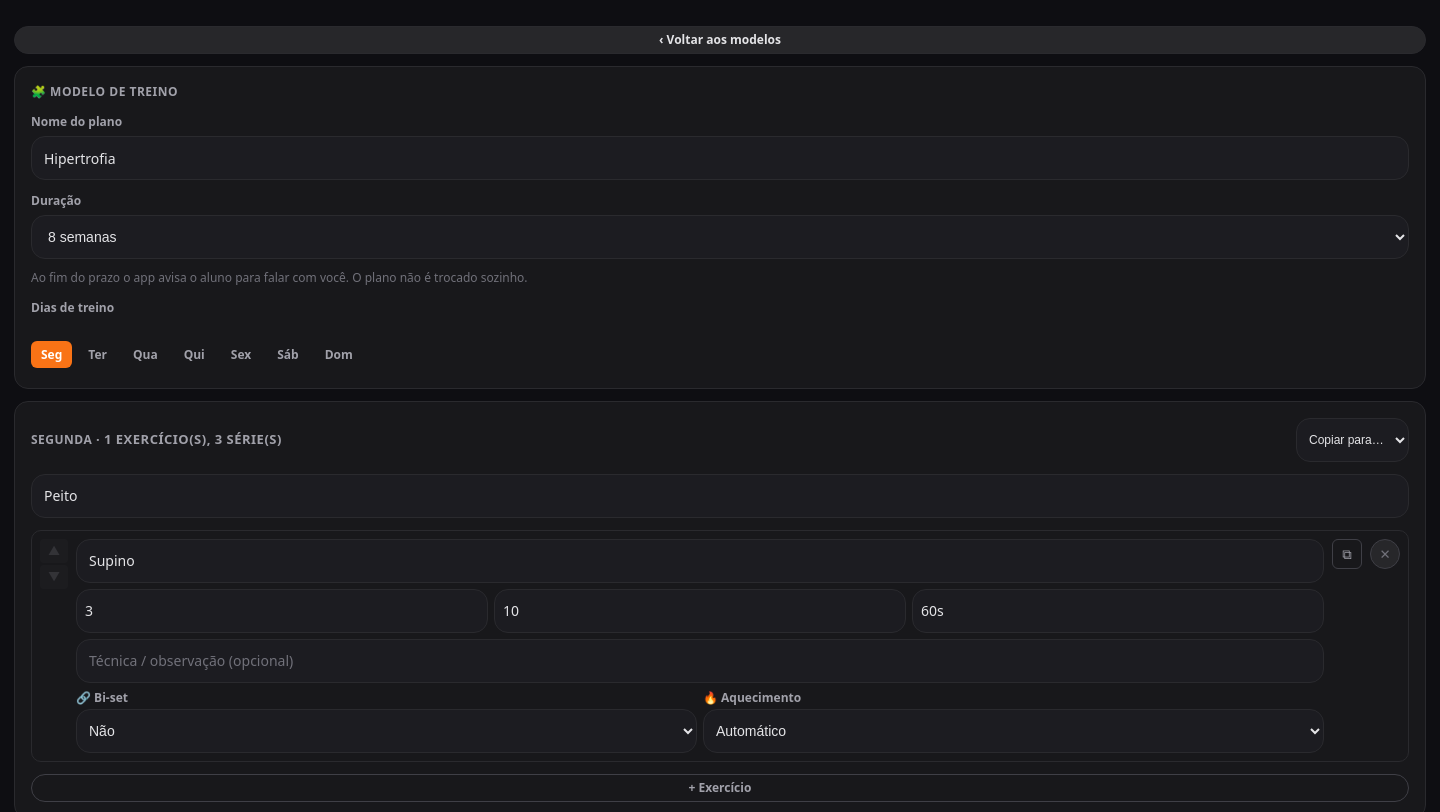
Scenario: PlanBuilder — modelo (sem aluno) › adiciona, move e remove exercícios
Expected: the field labelled "Nome do plano" is shown, [31,136,1409,180]
Click the button "+ Exercício" at (720, 788), box [31,774,1409,802]
(page scrolled)
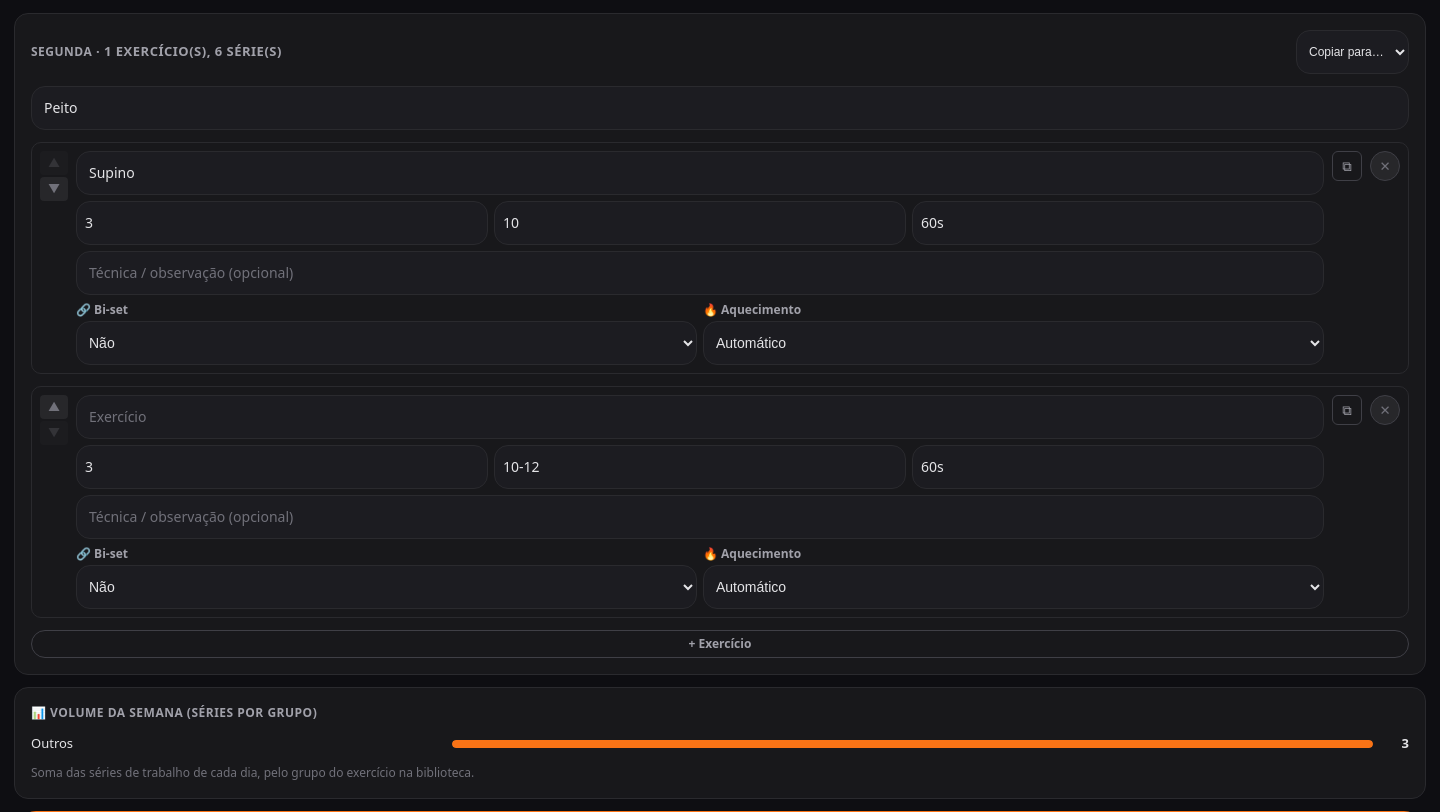
Expected: the number of fields with placeholder "Exercício" is 2
Type "Crucifixo" into the field with placeholder "Exercício" at (700, 417), box [76,395,1324,439]
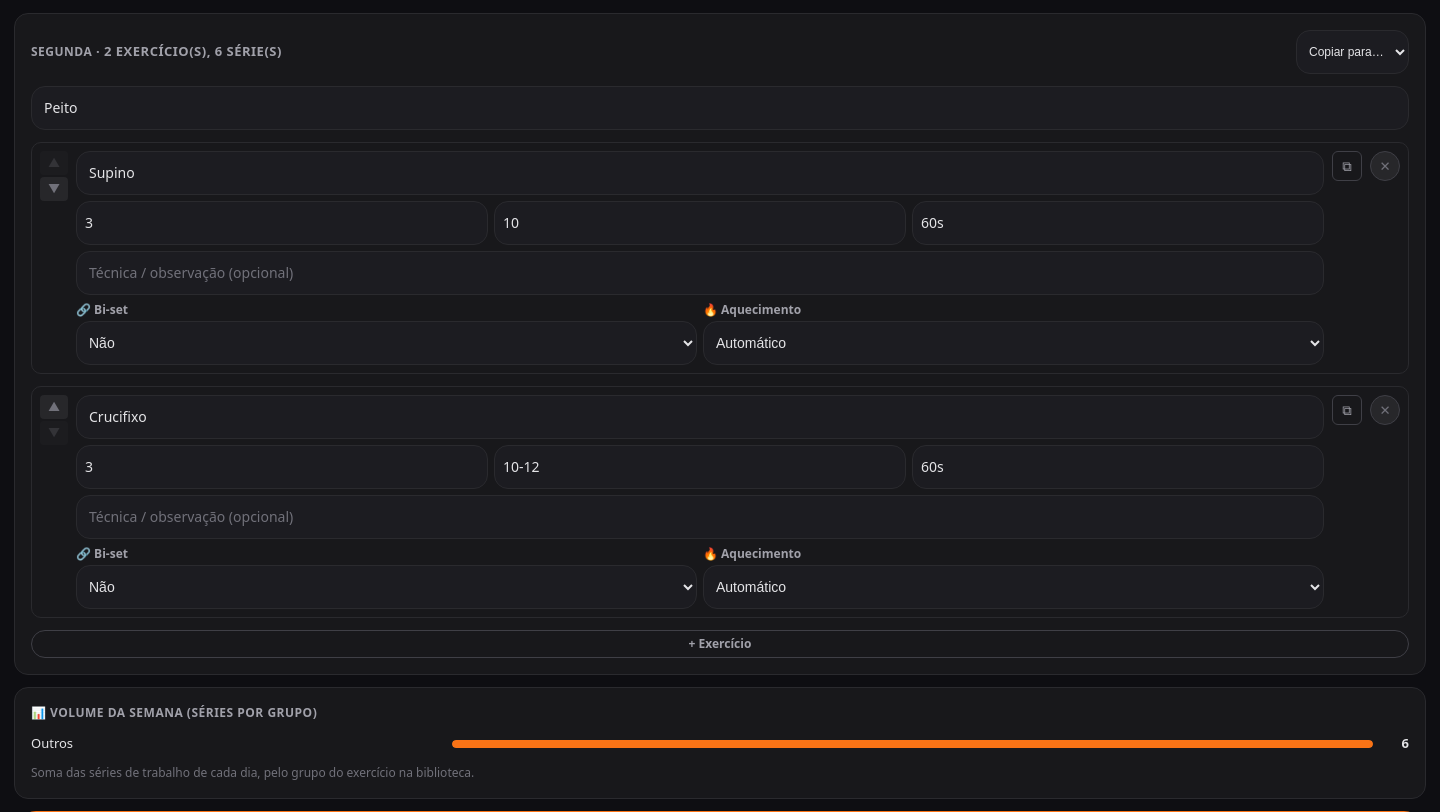
Click the button named "Subir" at (54, 407), box [40,395,68,419]
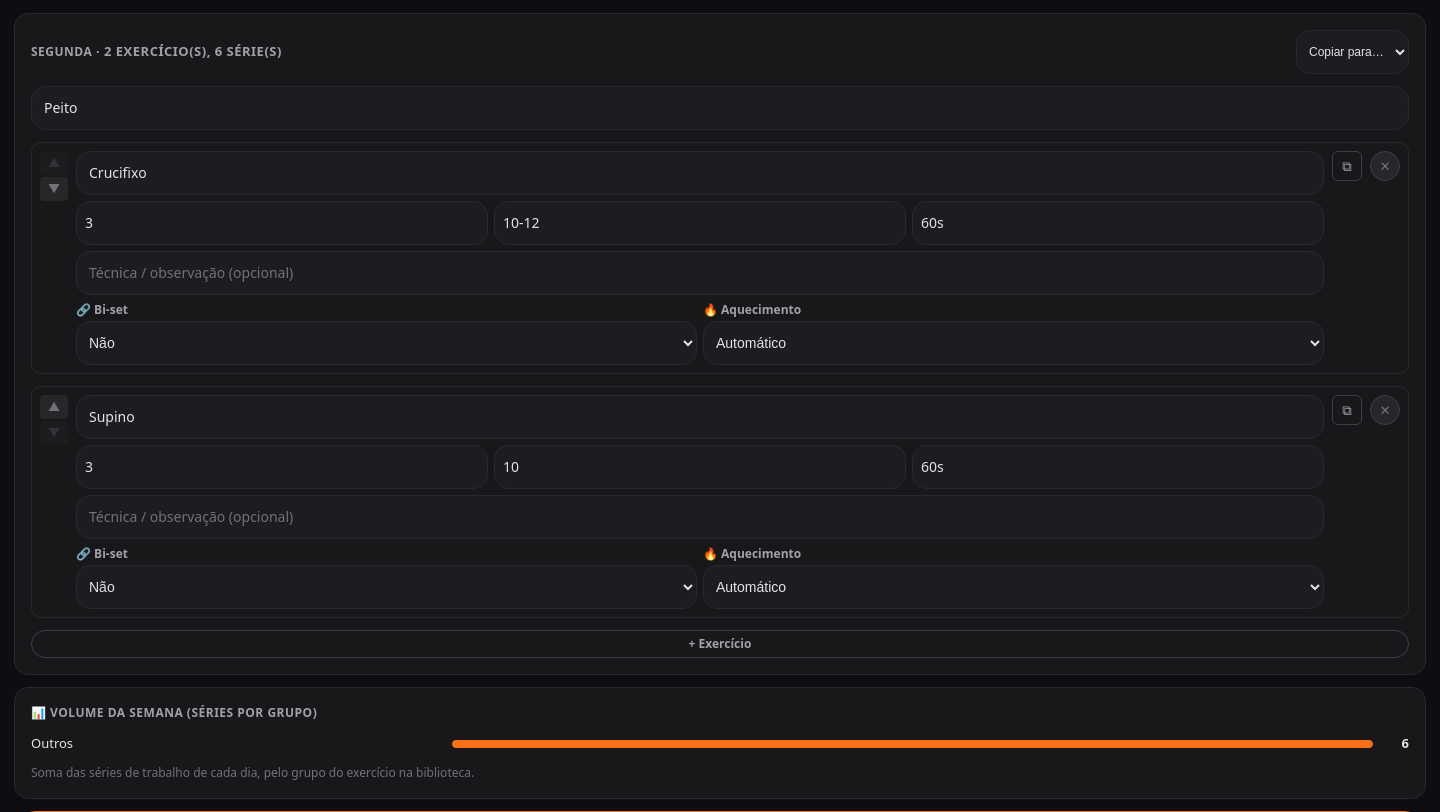
Expected: the 2nd field with placeholder "Exercício" holds "Crucifixo", [76,151,1324,195]
Click the button named "Remover exercício" at (1385, 166), box [1370,151,1400,181]
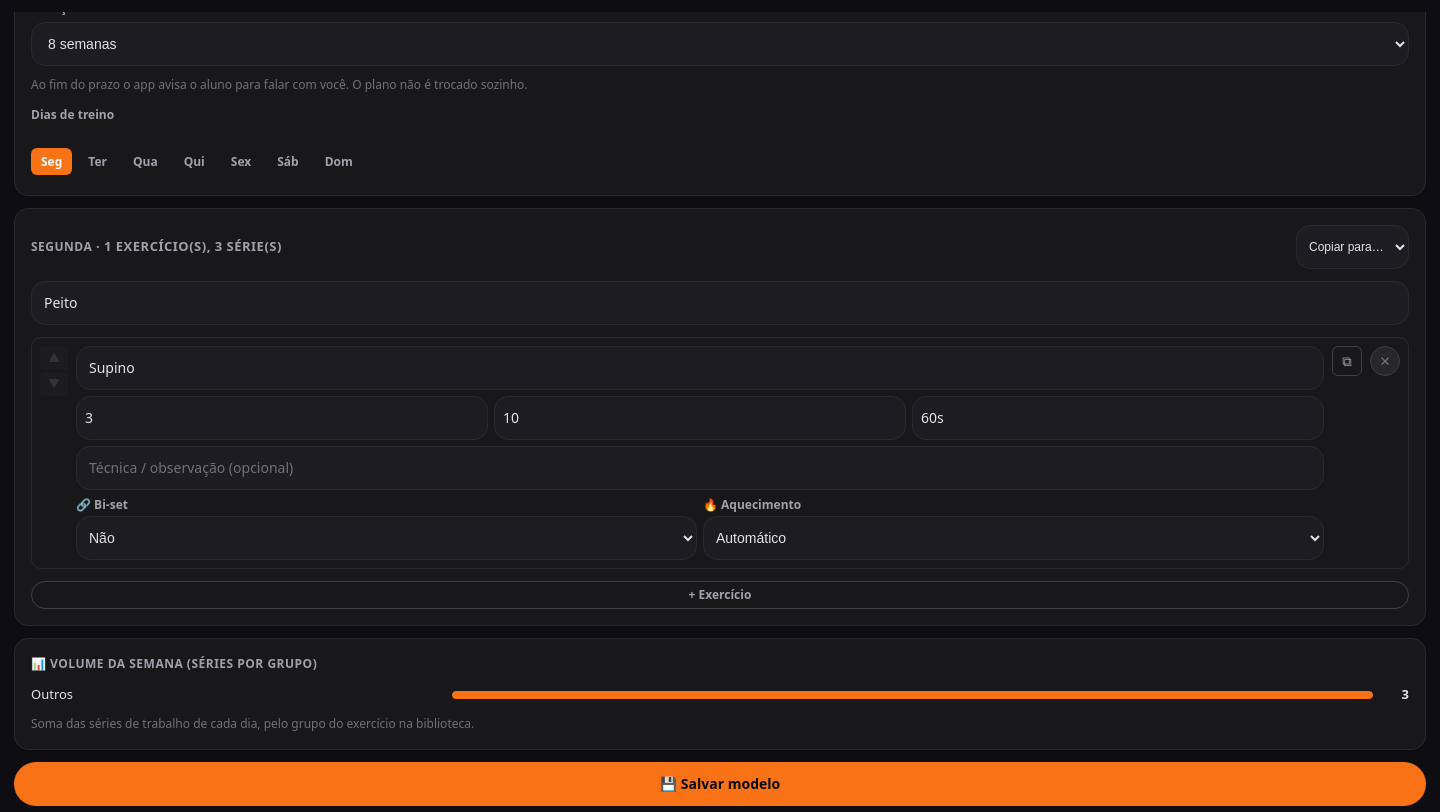
Expected: the number of fields with placeholder "Exercício" is 1, [76,346,1324,390]
